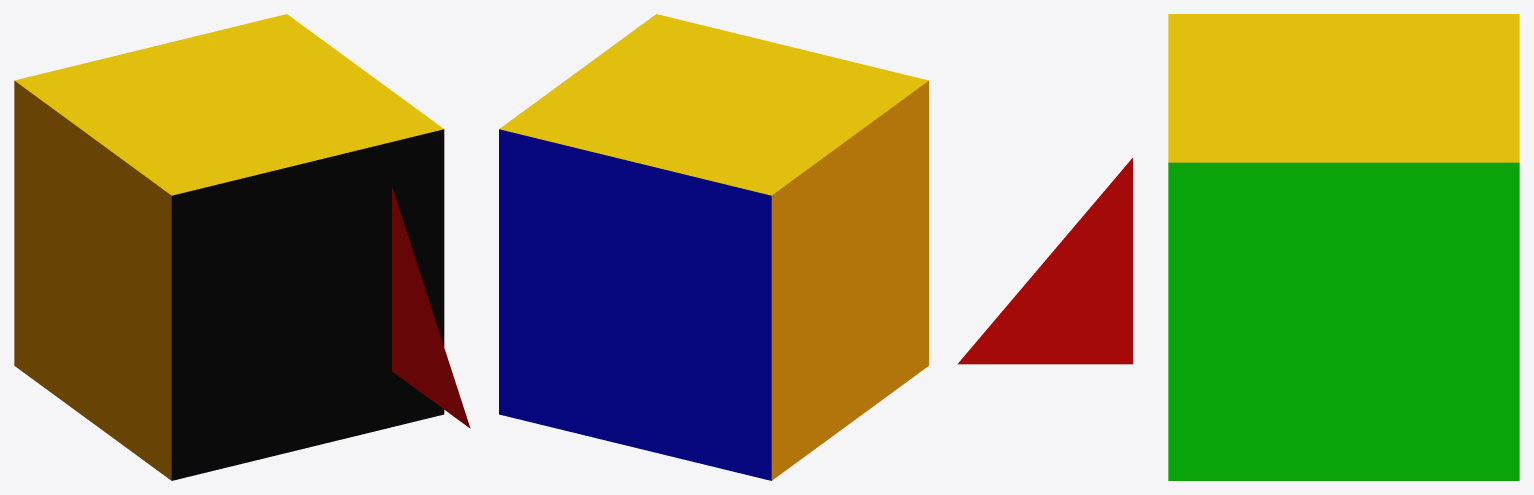
3 renders of one model, left to right at view 1: azimuth 30°, elevation 25°; view 2: azimuth 150°, elevation 25°; view 3: azimuth 270°, elevation 25°, orthographic. The views are drawn at different scales.
Parts seen in each view (by area): view 1: front, left, top, bla; view 2: back, left, top; view 3: right, top, bla.
Boxes of the visible parts, left/top/right/bottom form: front: left=171, top=129, right=444, bottom=480; left: left=14, top=81, right=171, bottom=480; top: left=14, top=14, right=443, bottom=195; bla: left=392, top=187, right=470, bottom=428; back: left=499, top=129, right=771, bottom=480; left: left=771, top=81, right=928, bottom=480; top: left=499, top=14, right=928, bottom=195; right: left=1168, top=162, right=1519, bottom=480; top: left=1168, top=14, right=1519, bottom=162; bla: left=957, top=158, right=1132, bottom=364.
Size of the model in its own units: 2 by 2 by 3.2.
